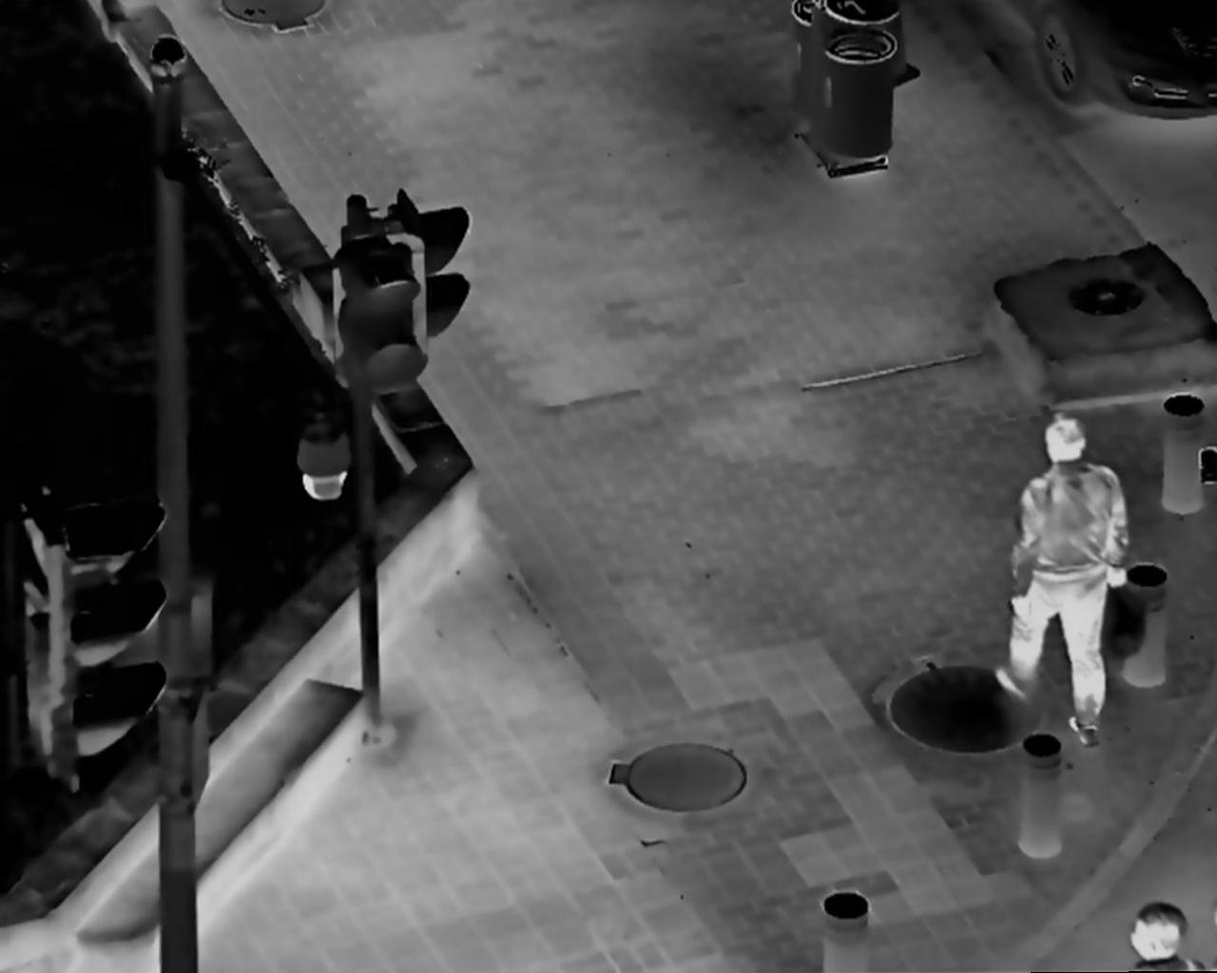person: (994, 409, 1136, 753), (1110, 892, 1212, 973)
